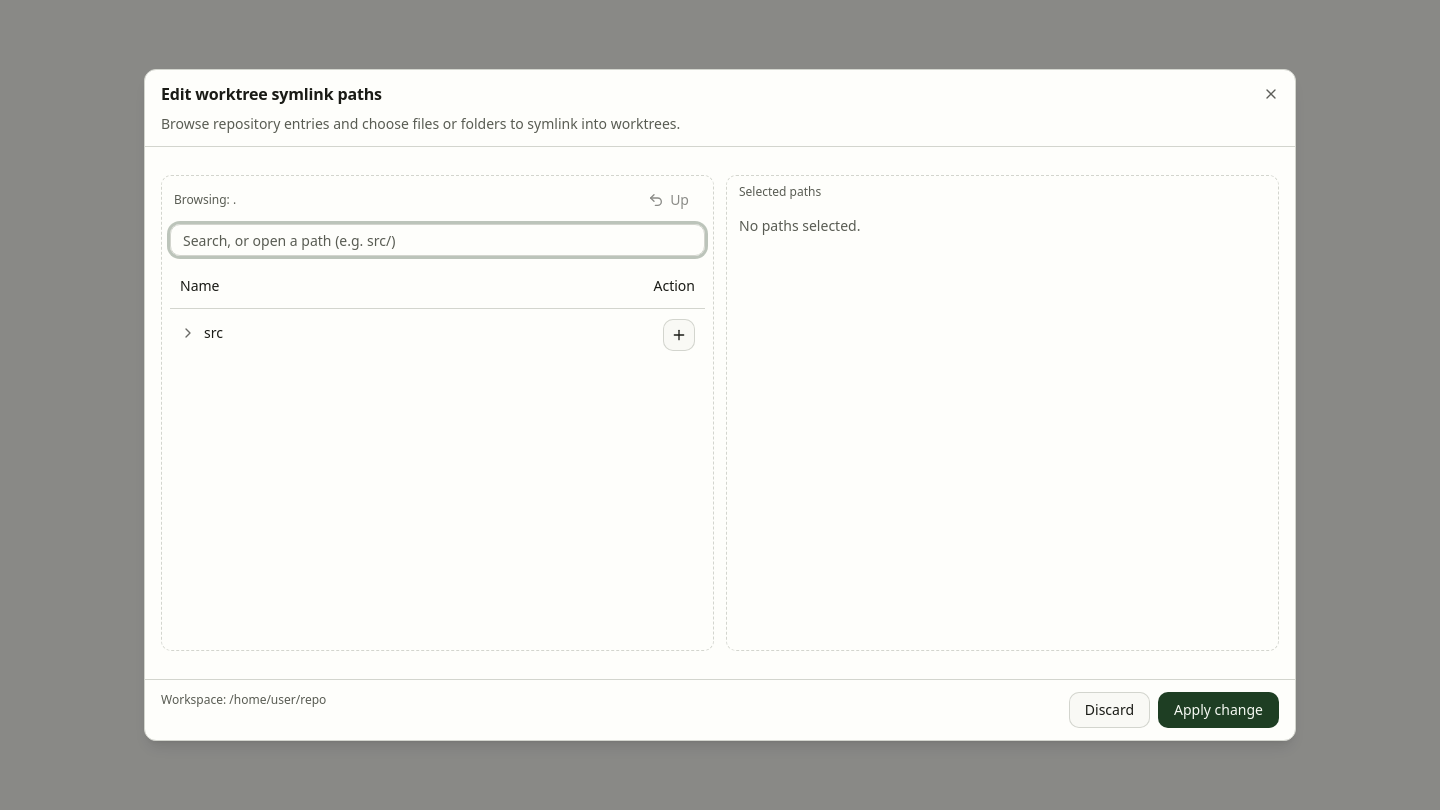
Test: WorktreeSymlinkPathsModal › opens a directory when the search value is a slash-terminated path
Expected: the text "src" is shown, [204,323,223,343]
In the field named "Search entries": (438, 240) [170,224,705,256], type "src/"
Wait 300 ms
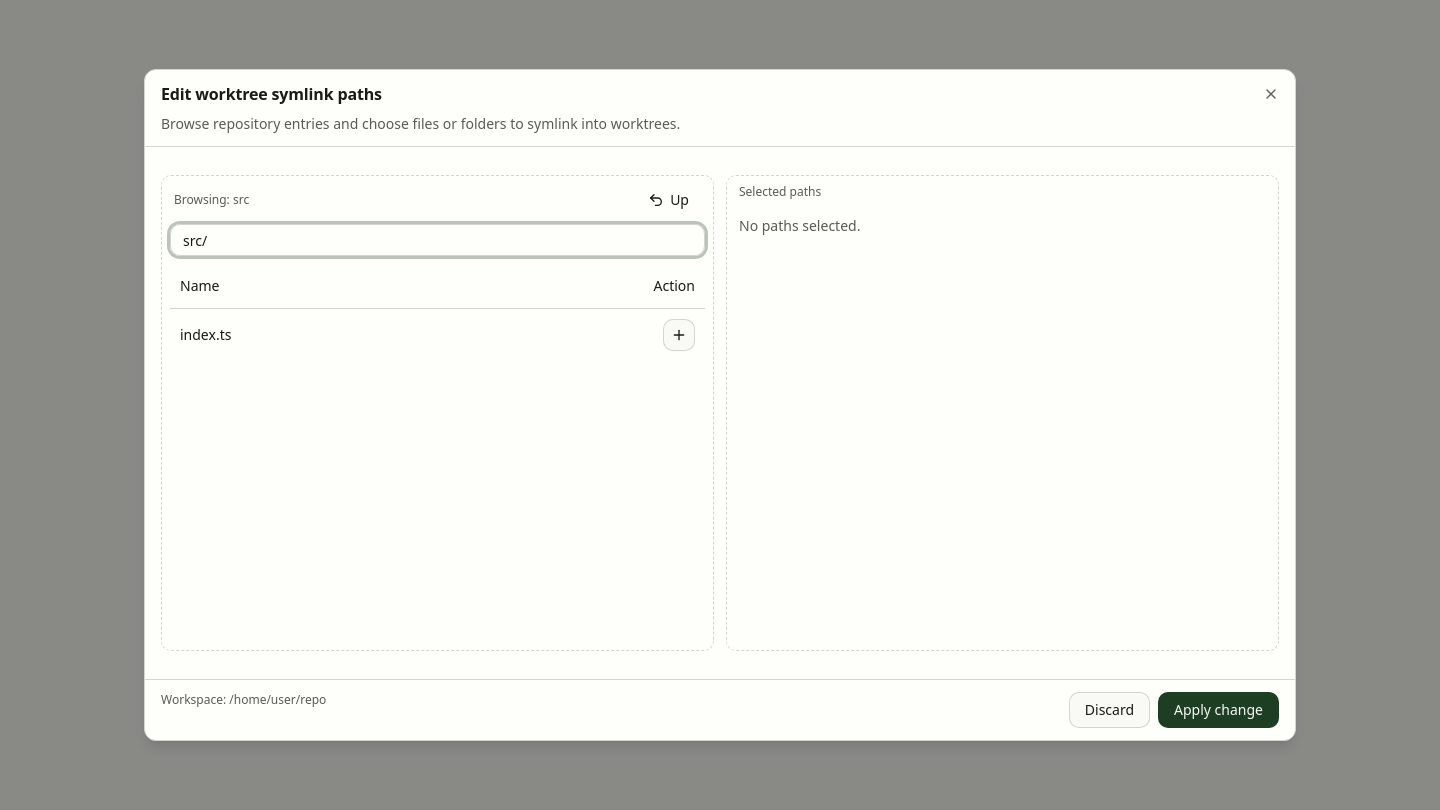
Result: the text "index.ts" is shown at [180,324,231,344]
Result: the text "Browsing: src" is shown at [174,192,249,208]
